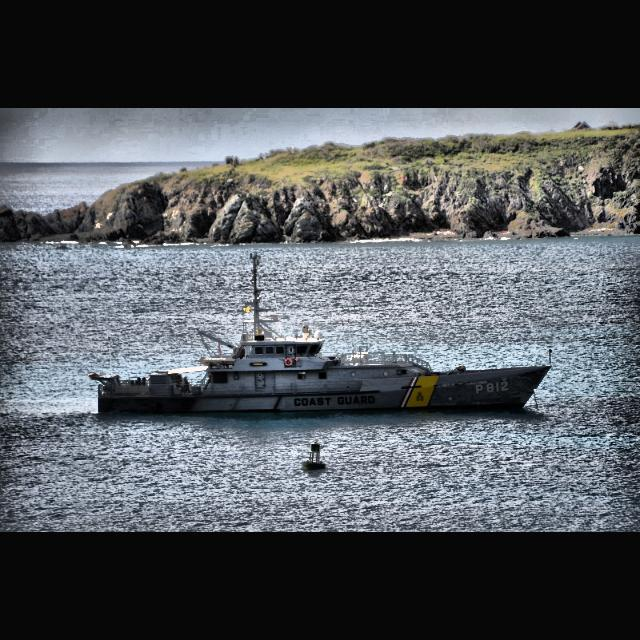buoy: (301, 436, 325, 474)
patrol_vessel: (82, 319, 558, 417)
